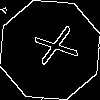X: (25, 25, 79, 71)
